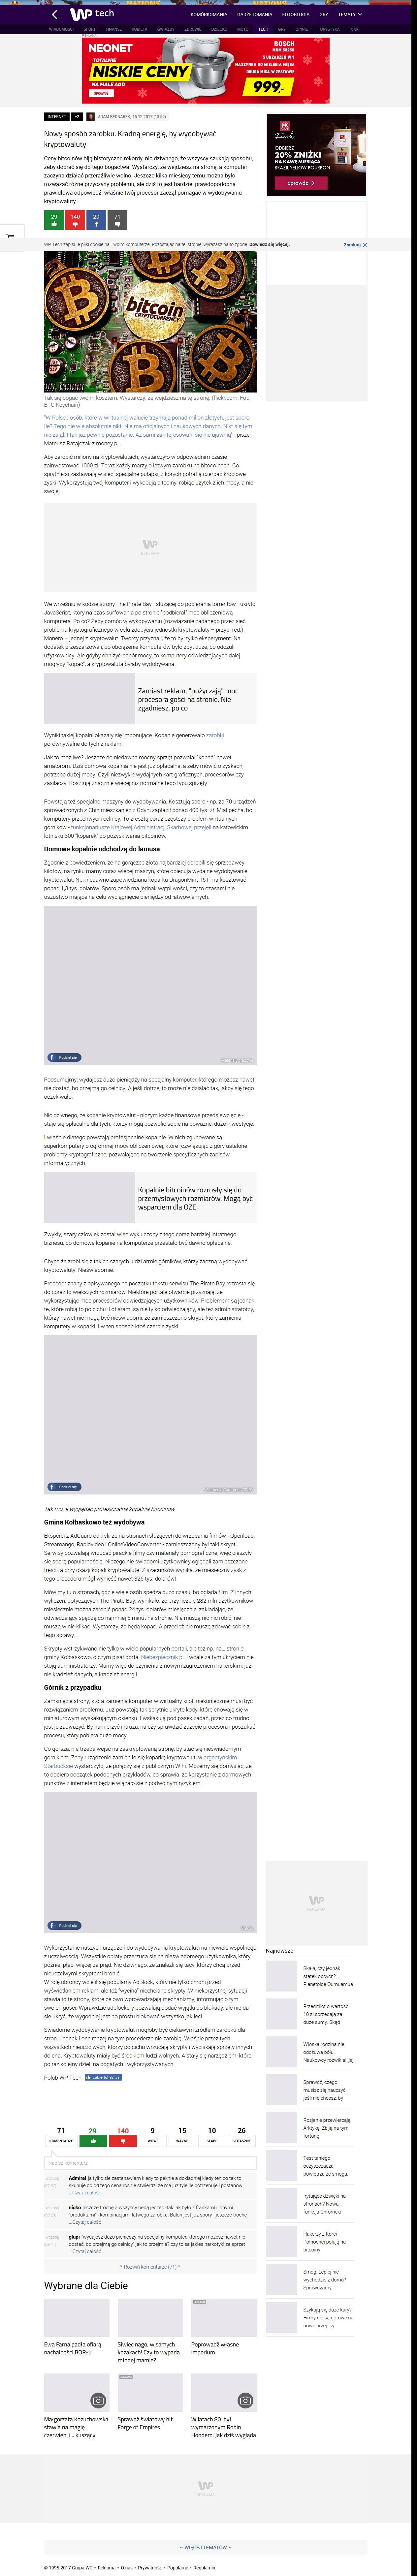title: (44, 131, 217, 148)
